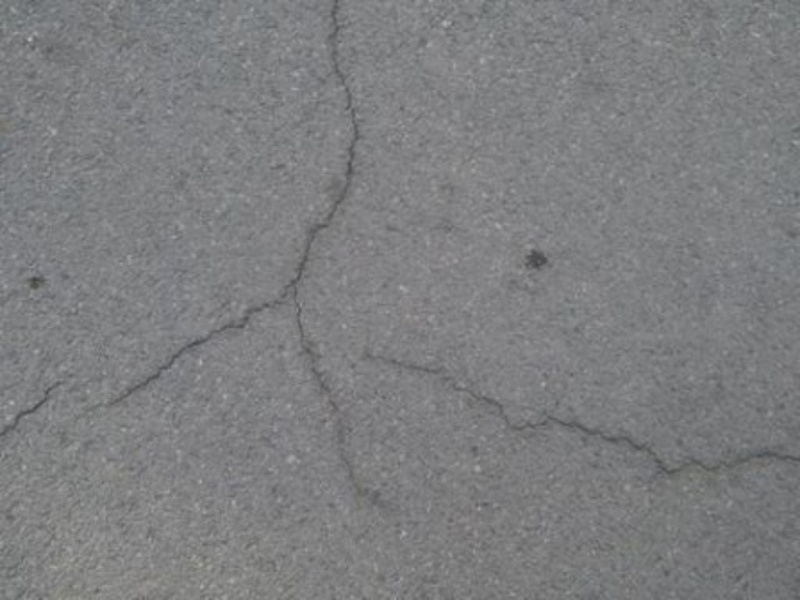crack: (378, 339, 800, 500), (283, 1, 393, 515), (104, 266, 304, 420), (14, 365, 71, 437)
